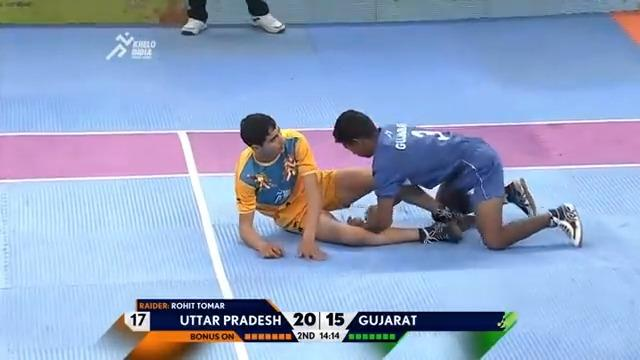Player: (331, 108, 583, 250)
Raider: (233, 111, 464, 261)
referee: (179, 0, 286, 35)
